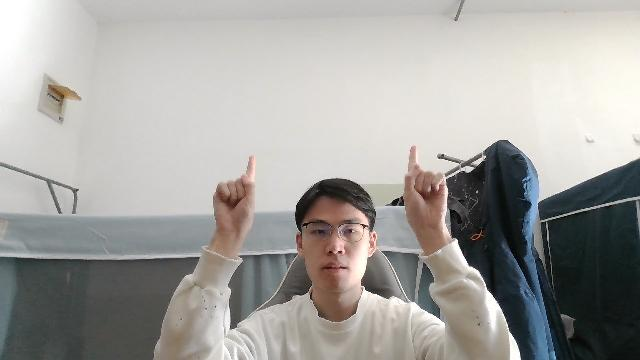one: (399, 143, 454, 245), (209, 153, 258, 252)
